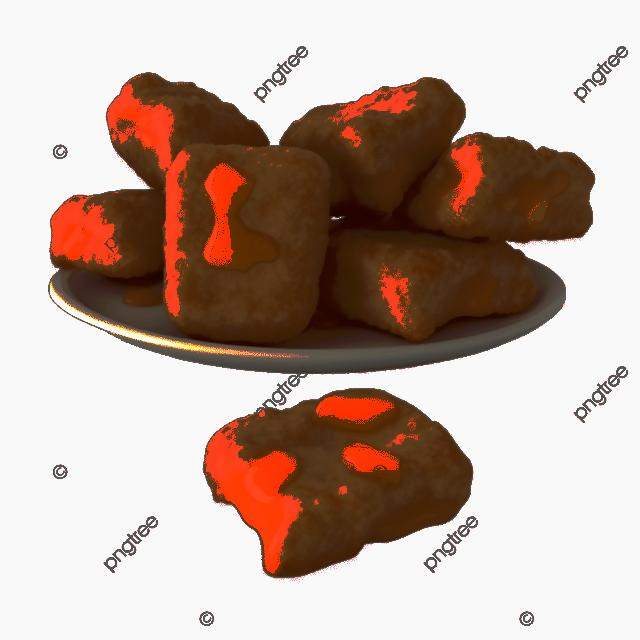chicken_nuggets: (201, 377, 486, 588), (158, 139, 327, 338), (326, 207, 541, 338), (275, 46, 445, 211), (414, 119, 596, 258), (110, 62, 279, 197), (61, 173, 175, 301)
